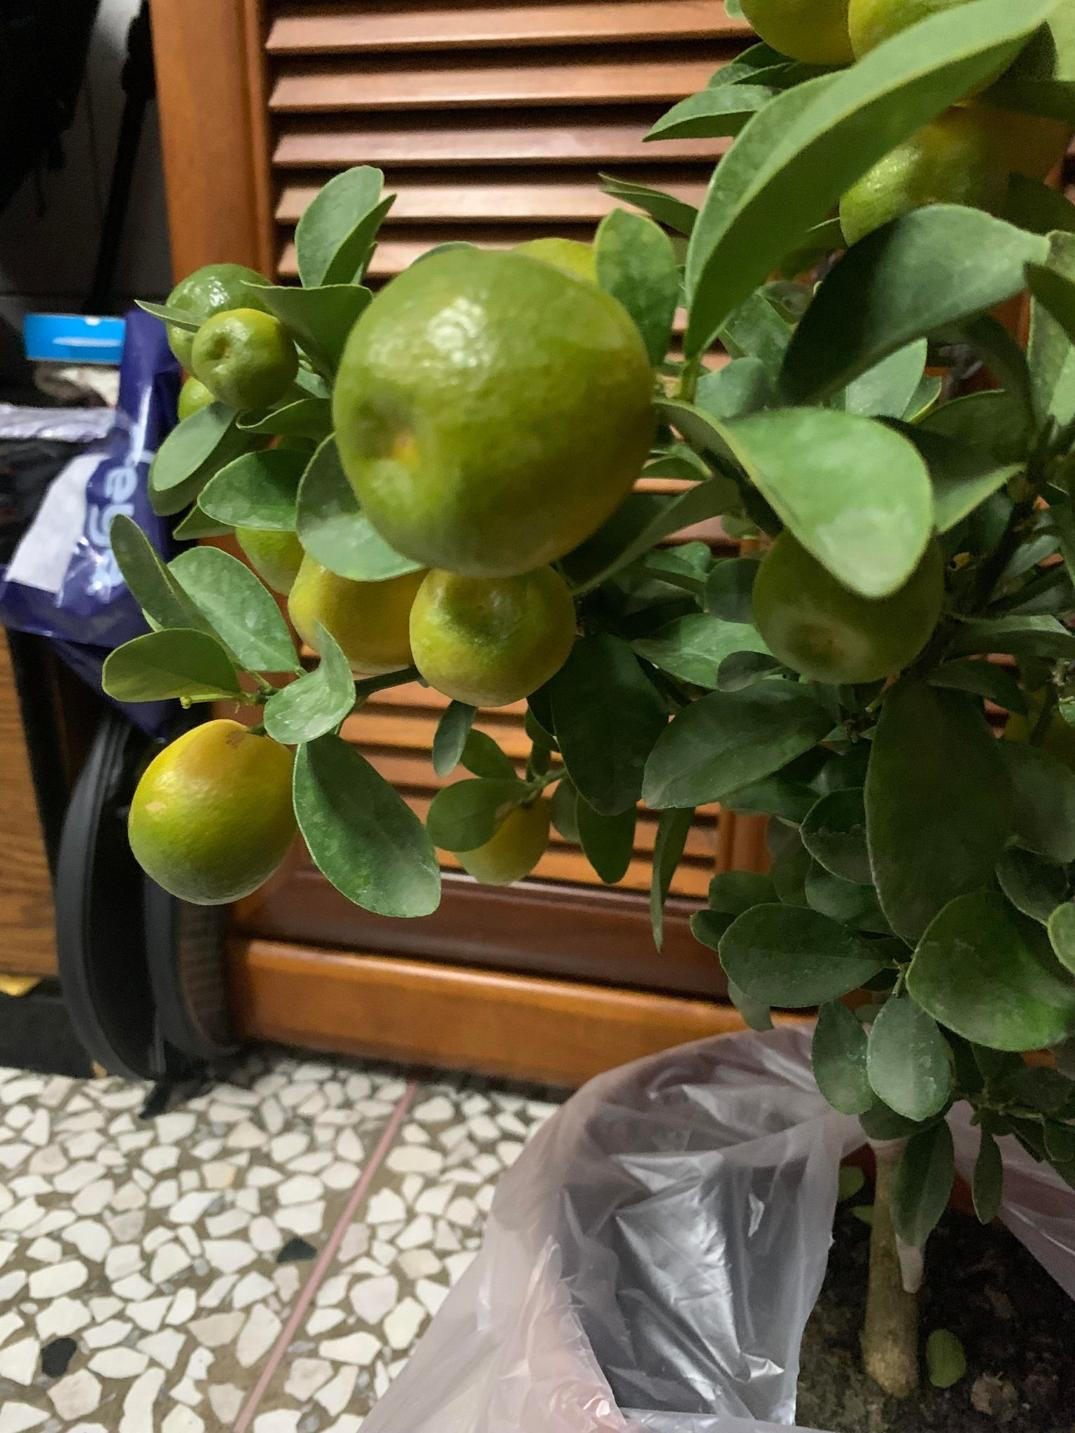Kumquat: (326, 247, 649, 583), (111, 711, 313, 909), (407, 556, 575, 697), (190, 307, 301, 404)
